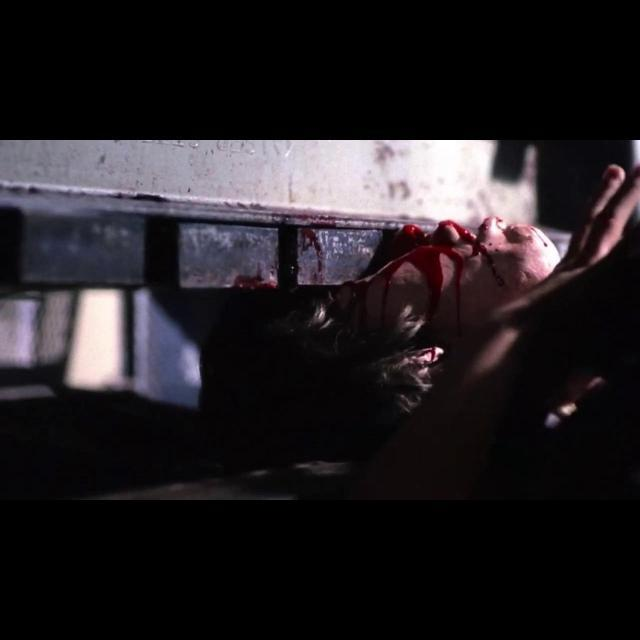blood: (279, 216, 562, 410), (200, 225, 280, 289)
